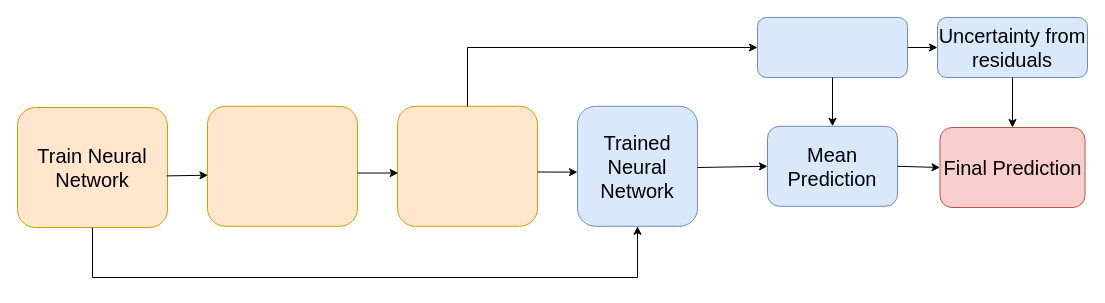
This 1105x303 diagram has some shape labels left out. Each missing label, with the box of its shape:
HetGP: (396, 105, 538, 226)
Residuals: (206, 105, 358, 226)
Trained HetGP: (756, 16, 908, 78)
